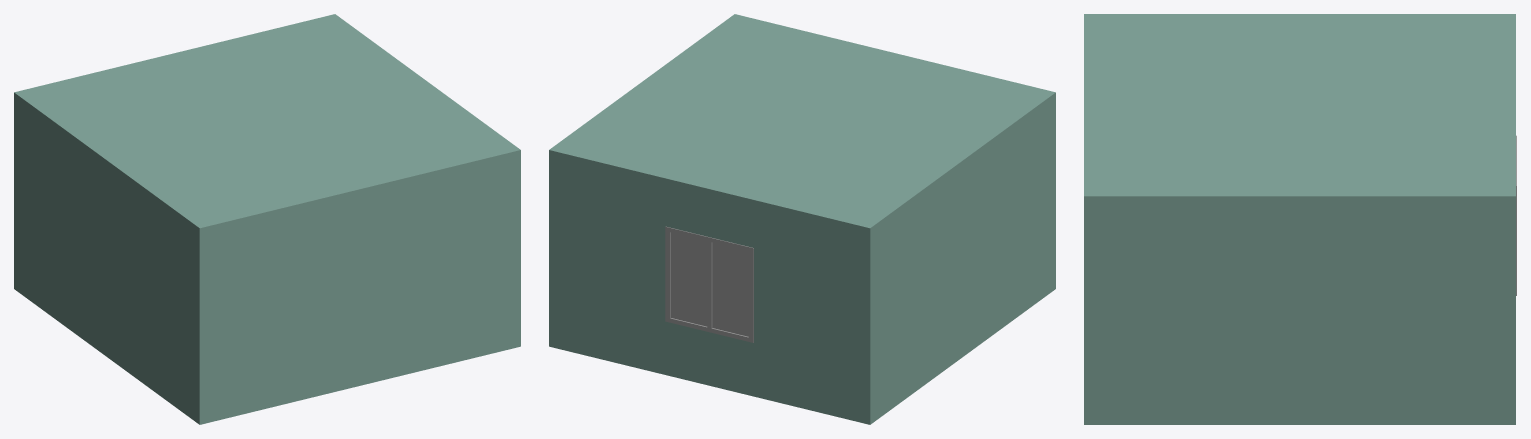
Rendered from Room.fbx.
3 views of the same model, side by side, from view 1: azimuth 30°, elevation 25°; view 2: azimuth 150°, elevation 25°; view 3: azimuth 270°, elevation 25° (orthographic). The views are drawn at different scales.
Parts seen in each view (by area): view 1: Room1; view 2: Room1, Glass, Window; view 3: Room1.
Part boxes in pixels (x1,y1,x2,y2): Room1: (14,14,520,424); Room1: (549,14,1055,424); Glass: (671,232,748,336); Window: (665,226,753,342); Room1: (1084,14,1515,424).
Size of the model in its own units: 4.56 by 2.67 by 4.58.
